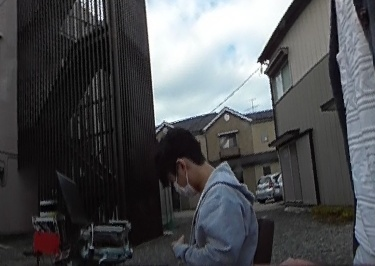person: (143, 123, 259, 266)
